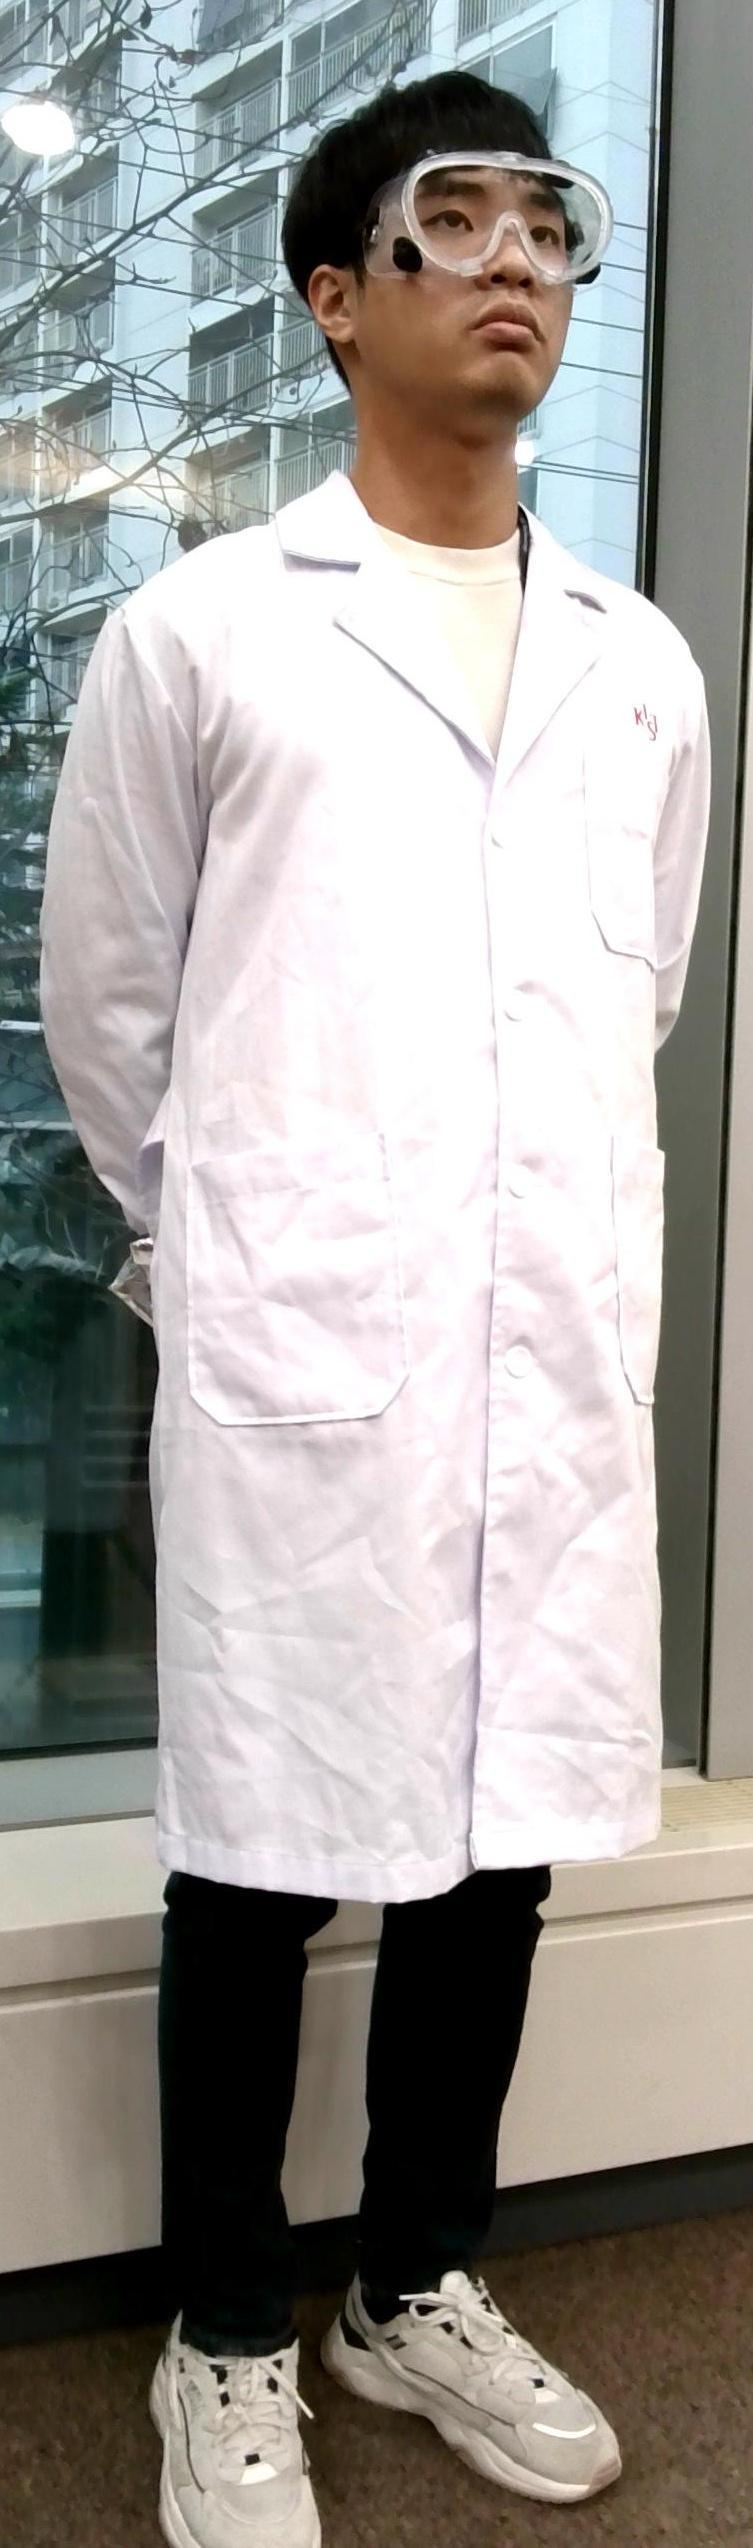lab_coat: (81, 575, 714, 1880)
